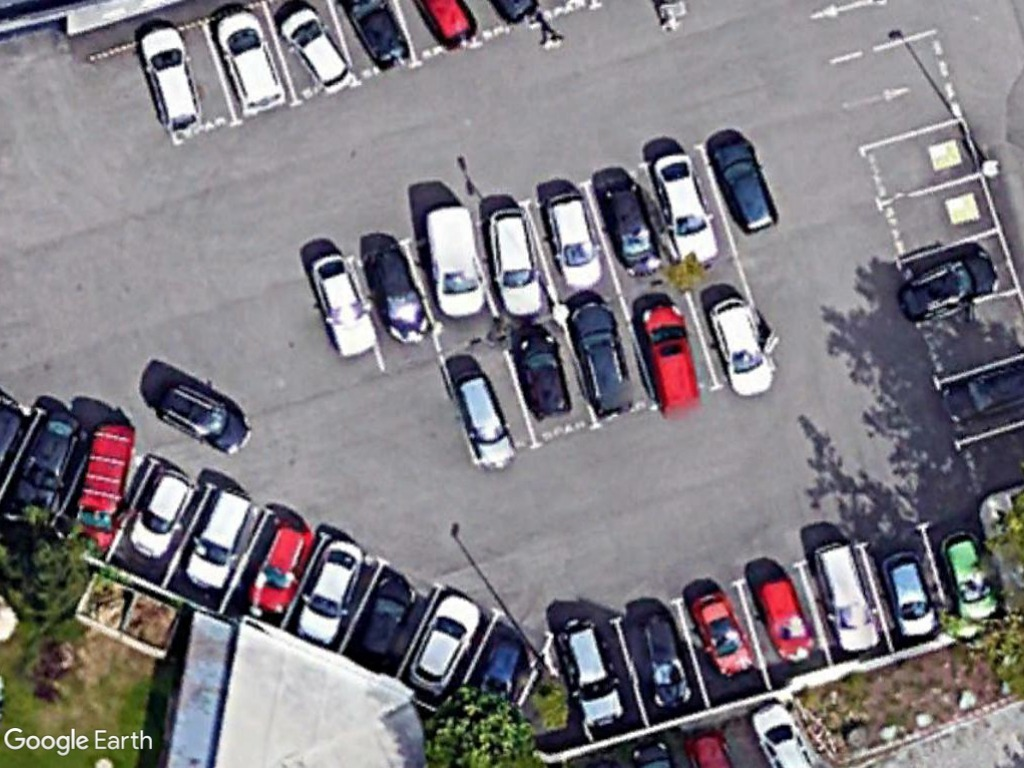car: (4, 403, 83, 524), (292, 533, 370, 648), (399, 589, 481, 698), (811, 539, 886, 656), (565, 300, 638, 419), (208, 10, 289, 117), (180, 483, 257, 595), (896, 247, 1003, 326), (706, 293, 783, 401), (648, 150, 720, 264), (307, 250, 380, 362), (482, 203, 551, 321), (555, 615, 625, 731), (345, 567, 423, 669), (240, 516, 315, 622), (134, 26, 205, 137), (451, 364, 523, 473), (150, 385, 256, 458), (364, 240, 433, 347), (122, 465, 198, 560), (709, 136, 782, 234), (274, 11, 357, 97), (633, 605, 698, 712), (597, 177, 667, 275), (689, 584, 755, 684), (543, 189, 605, 291), (514, 325, 575, 423), (877, 548, 938, 640), (939, 530, 998, 624), (756, 574, 815, 665)
van: (70, 415, 141, 554), (639, 301, 709, 420), (422, 200, 487, 322)
